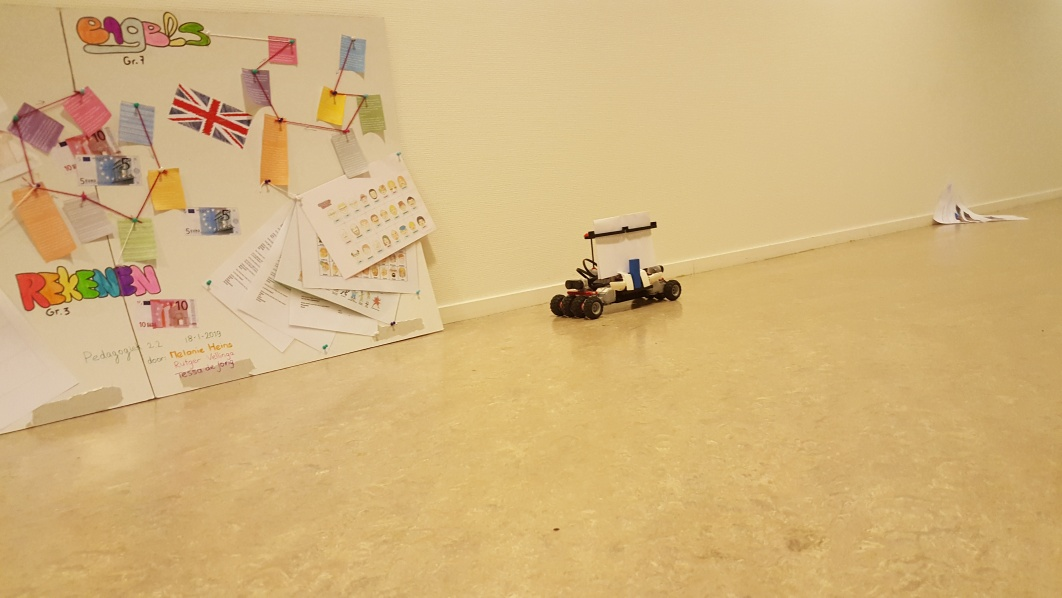beam: (628, 260, 646, 289)
